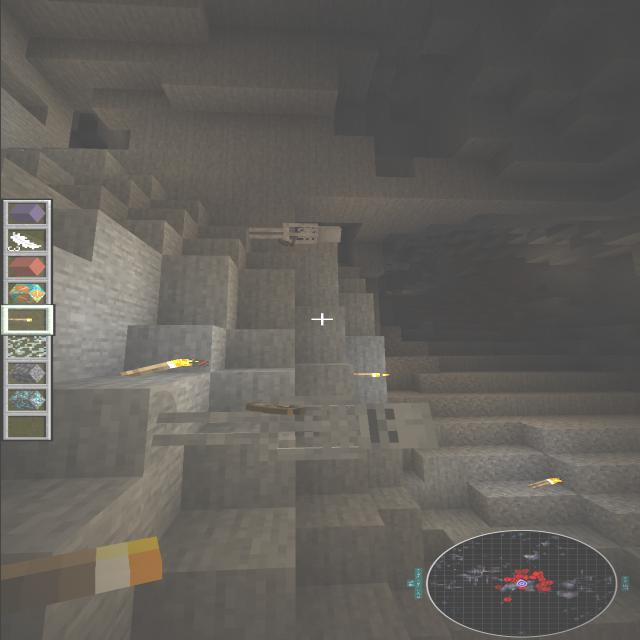Skeleton: (135, 389, 458, 473), (241, 215, 351, 254)
